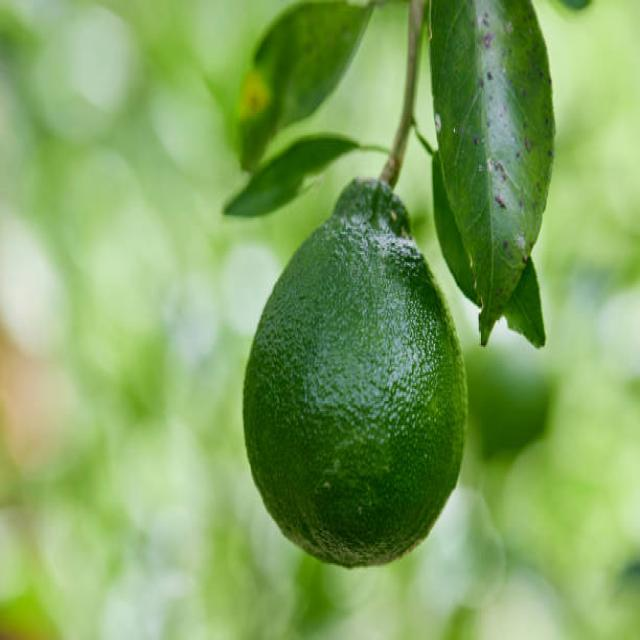Unripe: (241, 178, 468, 566)
